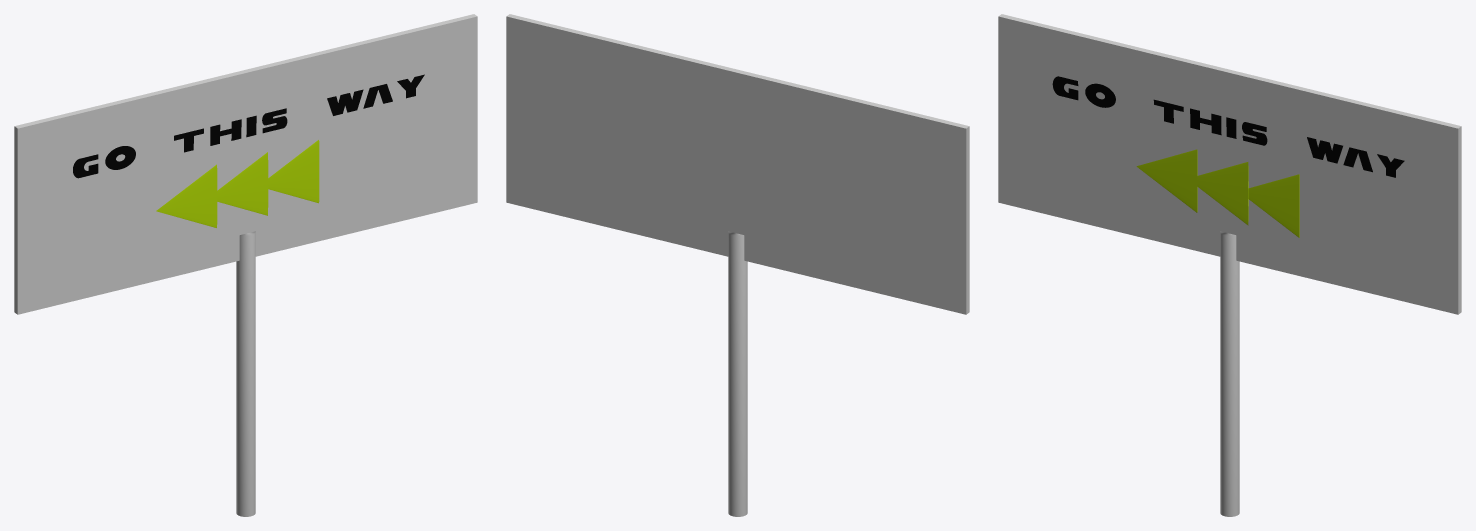
The model's file is Directional Sign.fbx.
3 renders of one model, left to right at view 1: azimuth 30°, elevation 25°; view 2: azimuth 150°, elevation 25°; view 3: azimuth 330°, elevation 25°, orthographic.
Parts seen in each view (by area): view 1: Cube, Cylinder, Text, Arrow, Cone.002, Cone.001; view 2: Cube, Cylinder; view 3: Cube, Cylinder, Text, Arrow, Cone.001, Cone.002.
Boxes of the visible parts, <box> form: Cube: <box>14,14,477,314</box>; Cylinder: <box>236,231,255,516</box>; Text: <box>73,74,424,178</box>; Arrow: <box>156,164,217,227</box>; Cone.002: <box>268,140,319,203</box>; Cone.001: <box>217,152,268,215</box>; Cube: <box>506,14,969,314</box>; Cylinder: <box>728,231,747,516</box>; Cube: <box>998,14,1461,314</box>; Cylinder: <box>1220,231,1239,516</box>; Text: <box>1052,76,1404,177</box>; Arrow: <box>1136,149,1197,212</box>; Cone.001: <box>1197,162,1248,225</box>; Cone.002: <box>1248,174,1299,237</box>.
Bounding box in the file's own units: 812 × 745 × 29.82.
